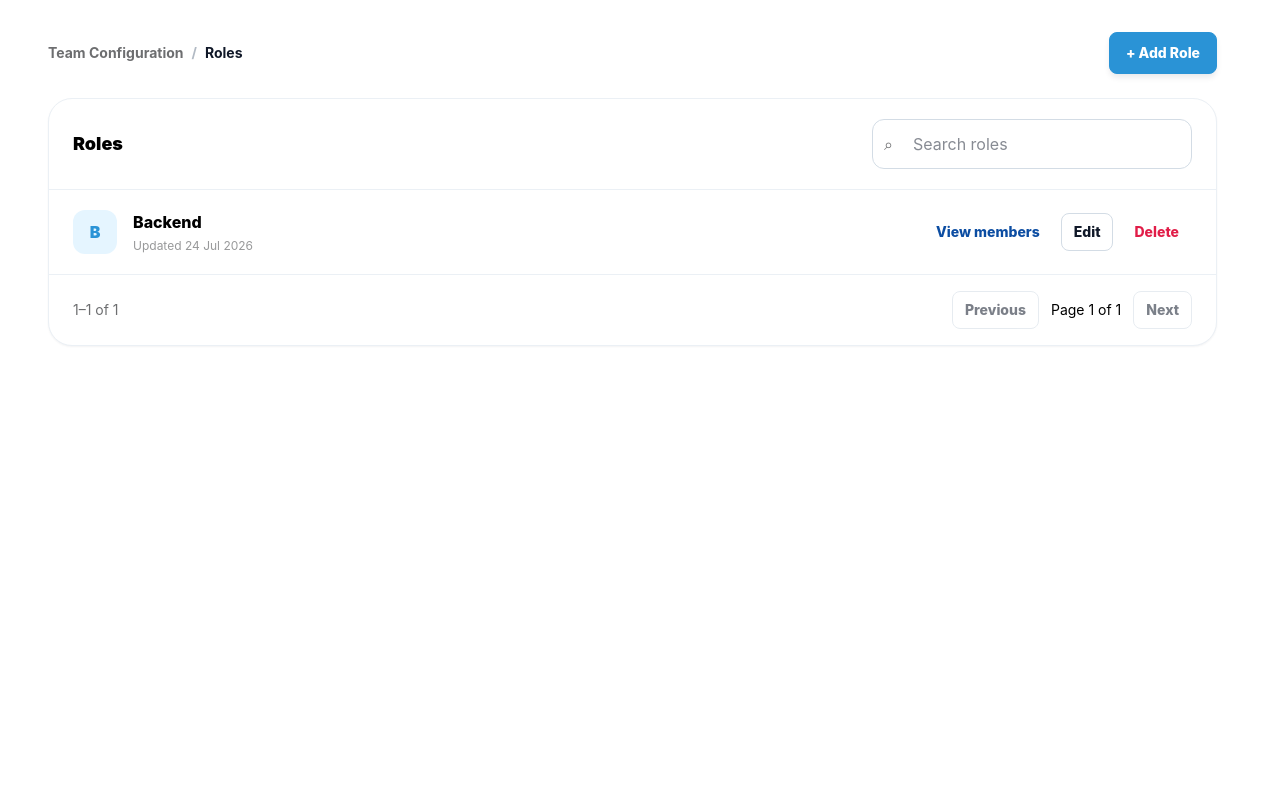
Scenario: RolesDashboardPage › cancels deletion and reports an in-use failure
Click the button with aria-label "Delete Backend" at (1157,232), box [1122,213,1192,251]
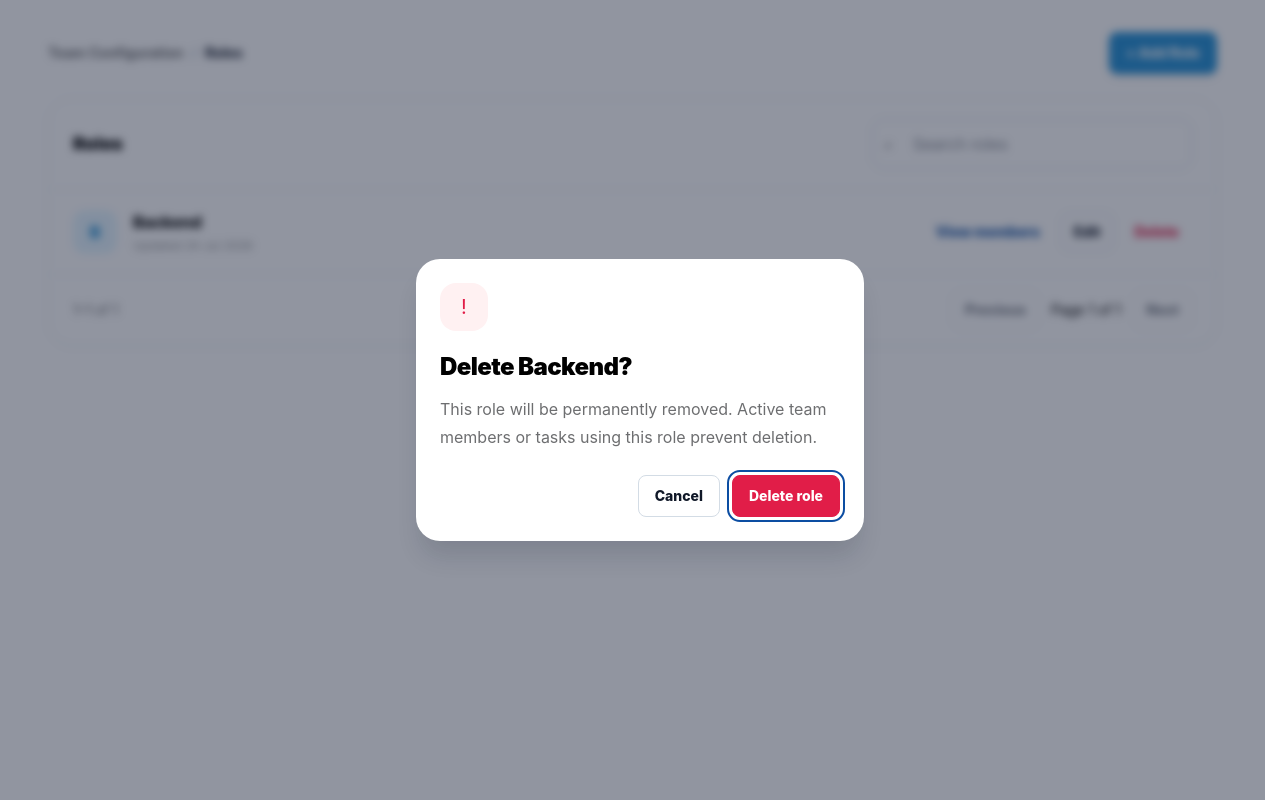
Click the button "Cancel" at (679,496), box [638,475,720,517]
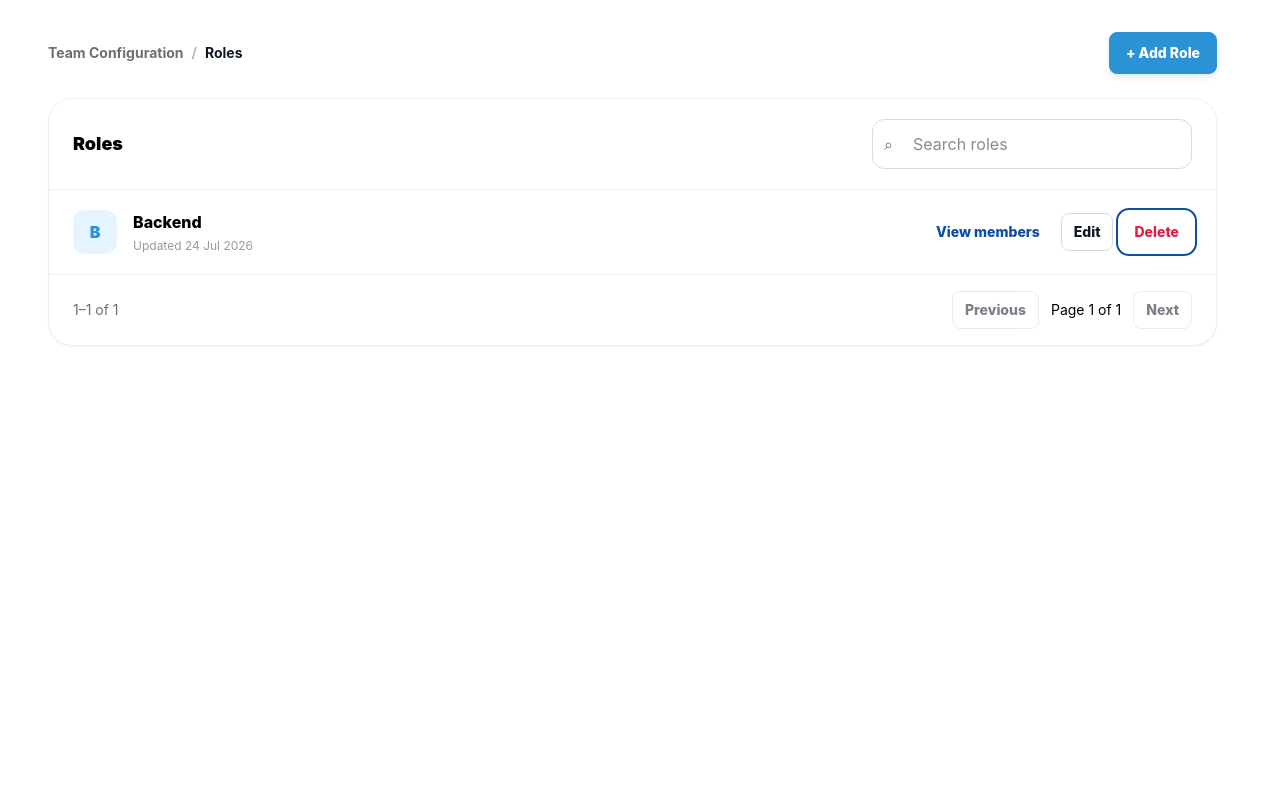
Click the button with aria-label "Delete Backend" at (1157,232), box [1122,213,1192,251]
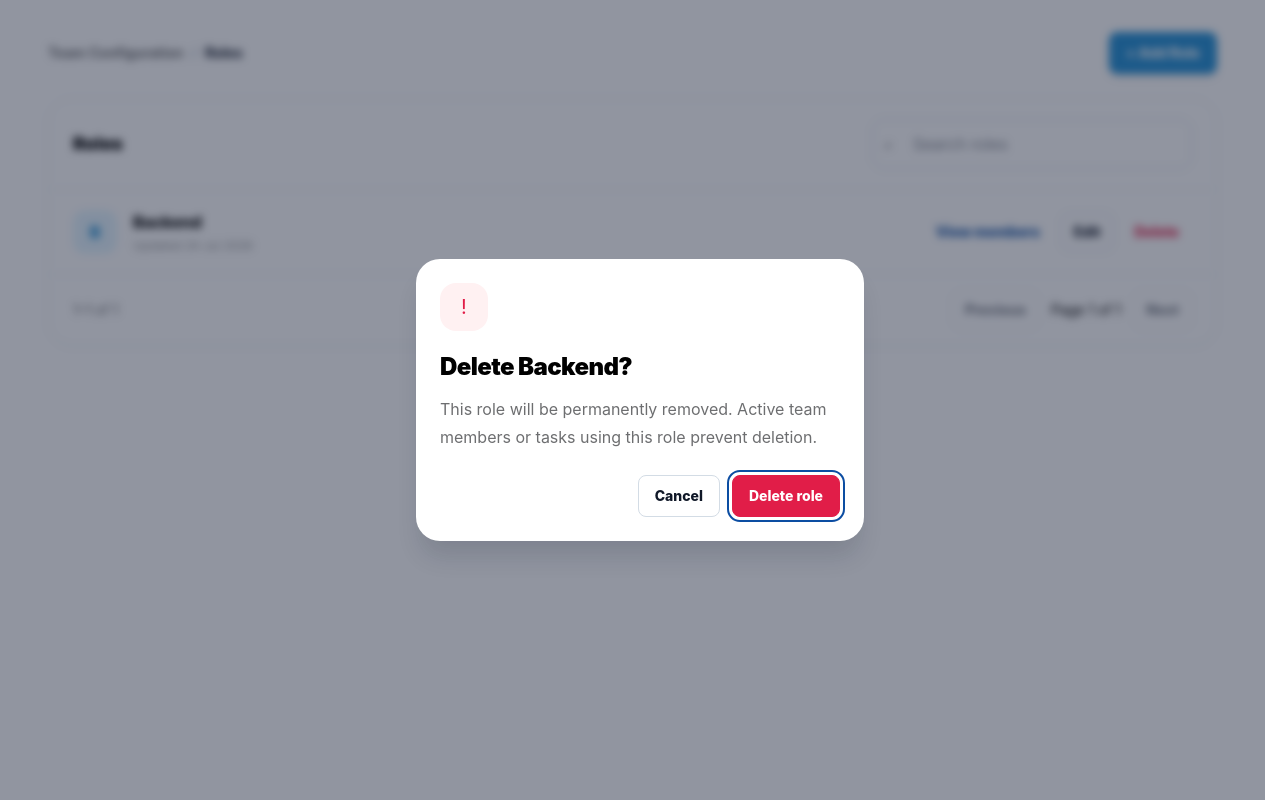
Click the button "Delete role" at (786,496), box [732,475,840,517]
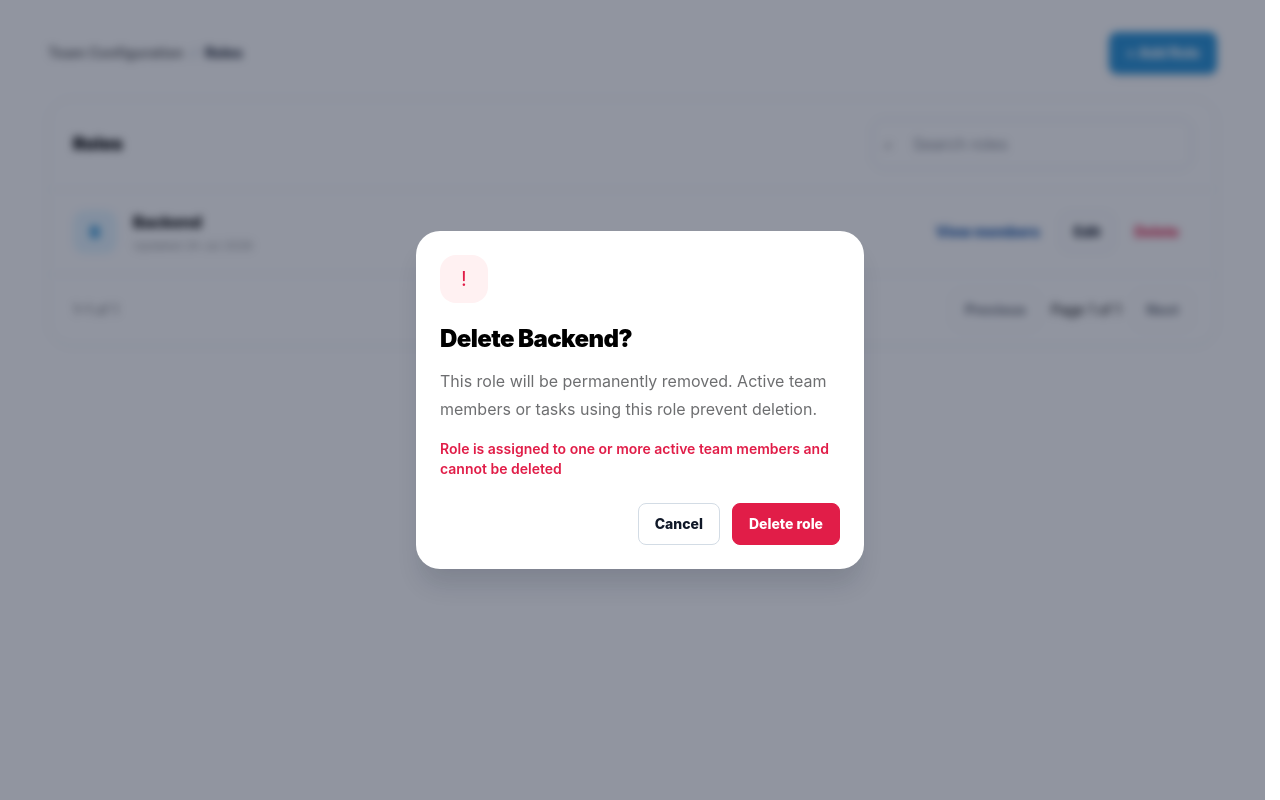
Check: the dialog is shown, box [416,231,864,569]
Check: the text "Role is assigned to one or more active team members and cannot be deleted" is shown, box [440,439,840,479]
